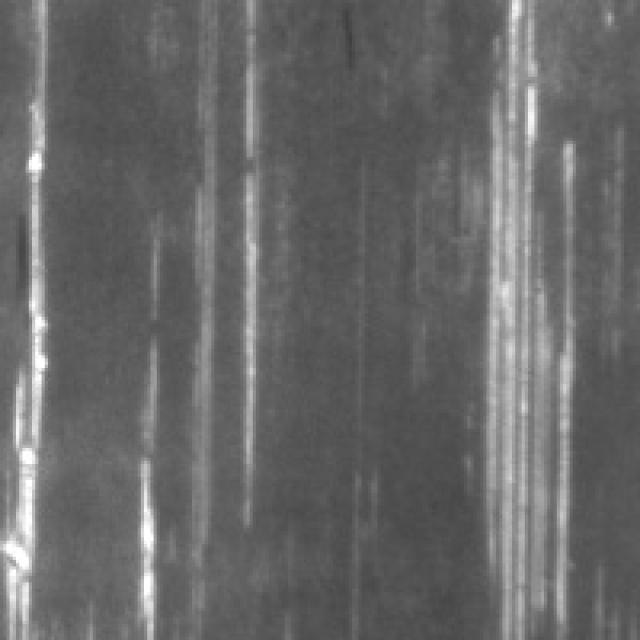scratches: (474, 3, 579, 630), (0, 0, 51, 630), (224, 0, 272, 525), (122, 243, 163, 634)
